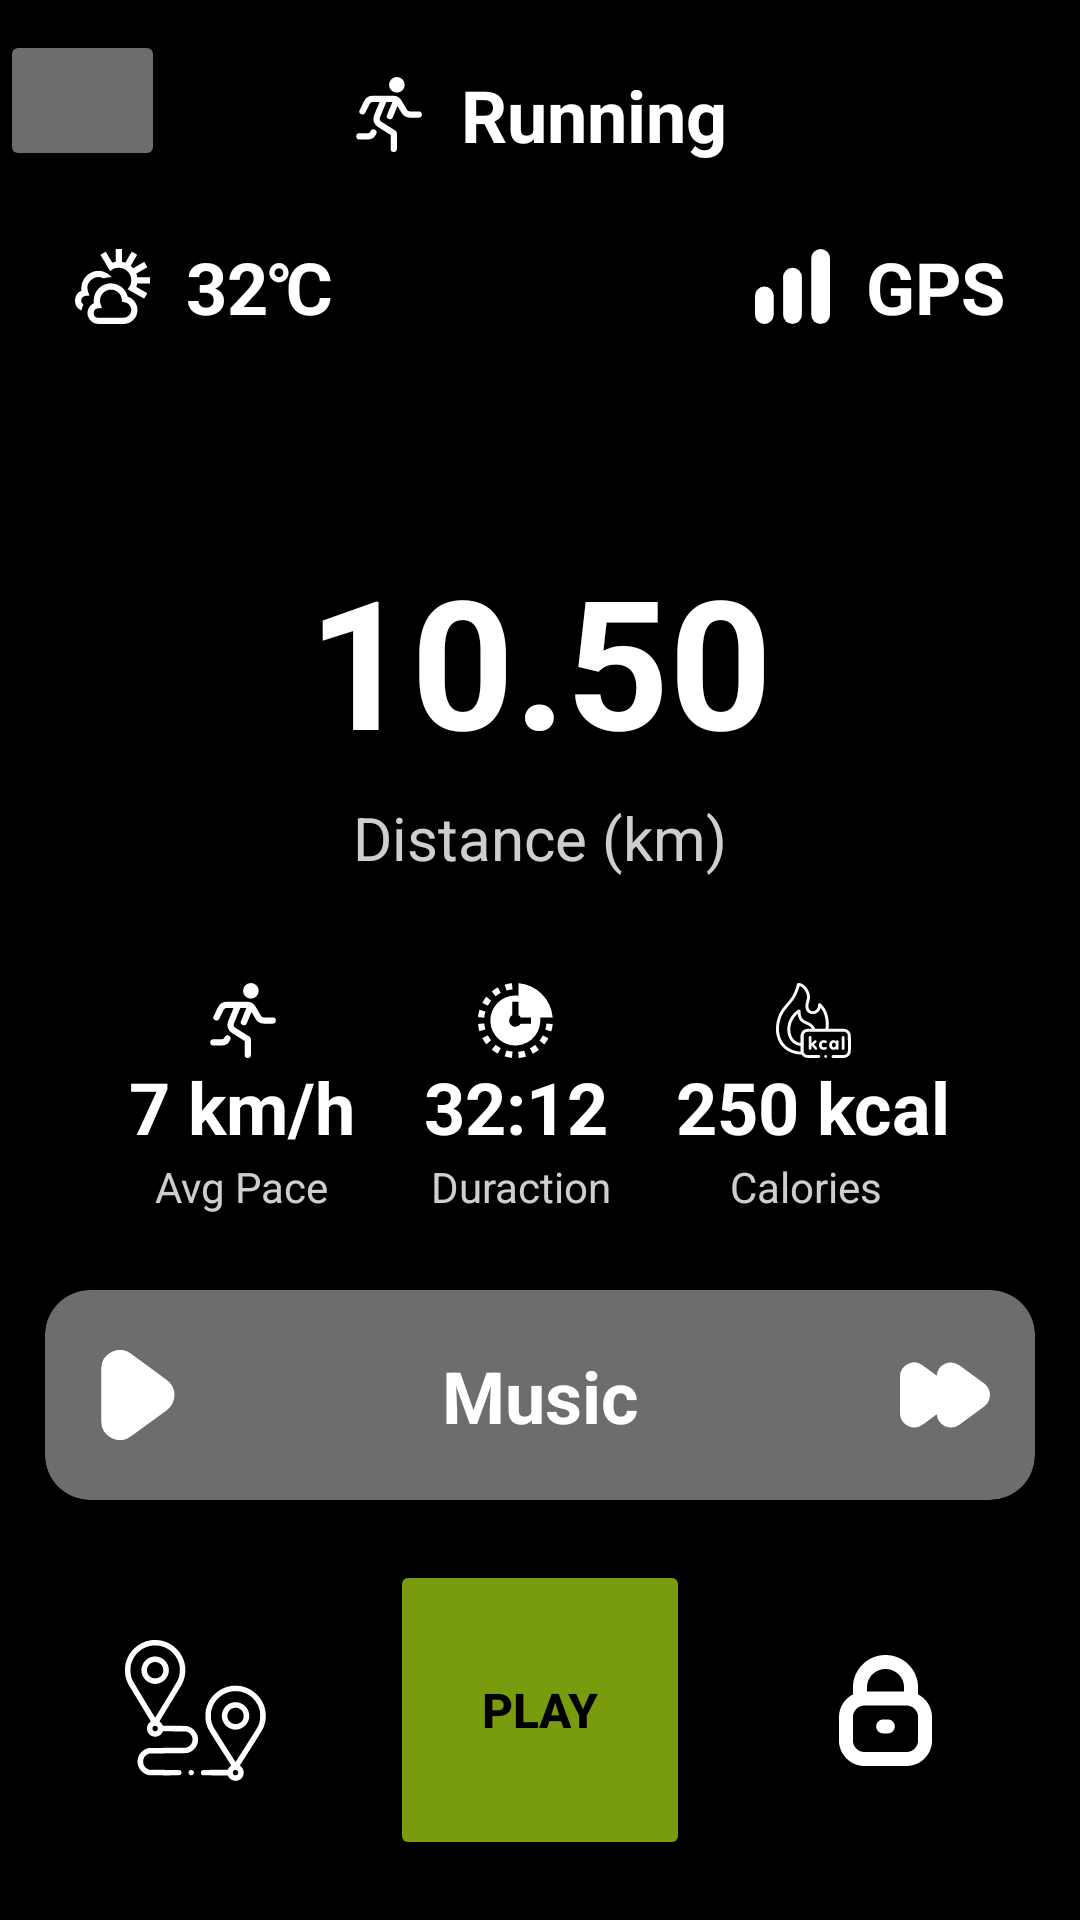

Named icons in this screenshot (1080px×1920px) and their centers, (x=x, y=y):
forward: (x=945, y=1395)
lock: (x=885, y=1710)
play: (x=138, y=1395)
route: (x=195, y=1710)
